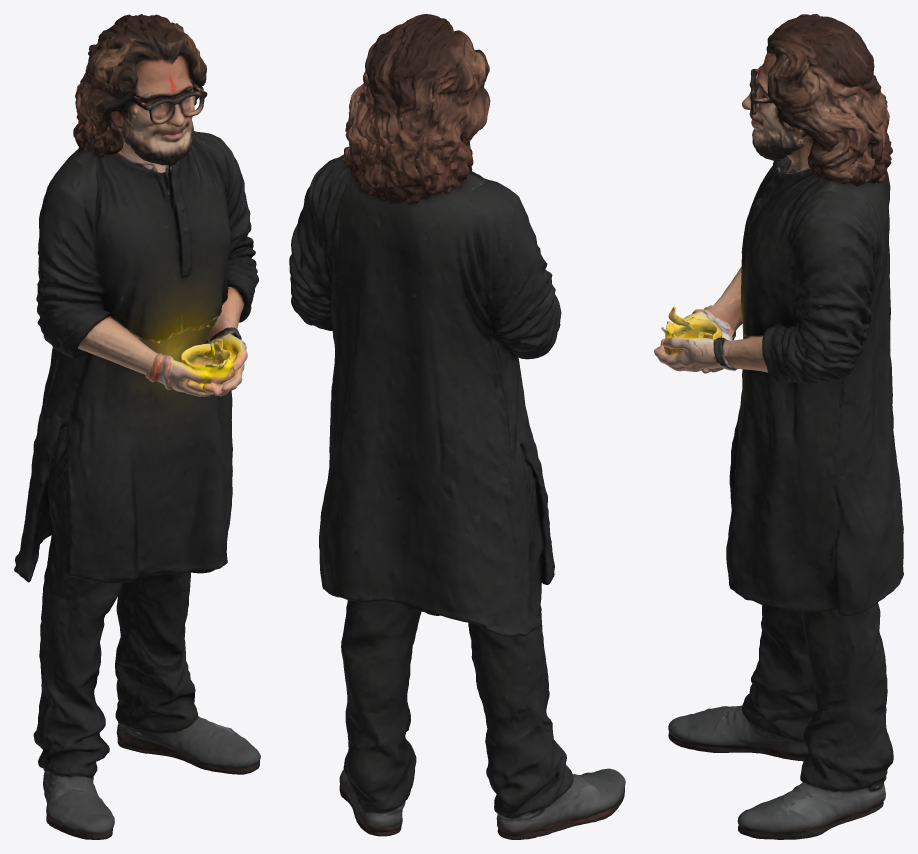
Rendered from avatar.optimized.glb.
3 renders of one model, left to right at view 1: azimuth 30°, elevation 25°; view 2: azimuth 150°, elevation 25°; view 3: azimuth 270°, elevation 25°, orthographic. The views are drawn at different scales.
Size of the model in its own units: 0.6712 by 1.9 by 0.5562.
1 material, 1 textured.
